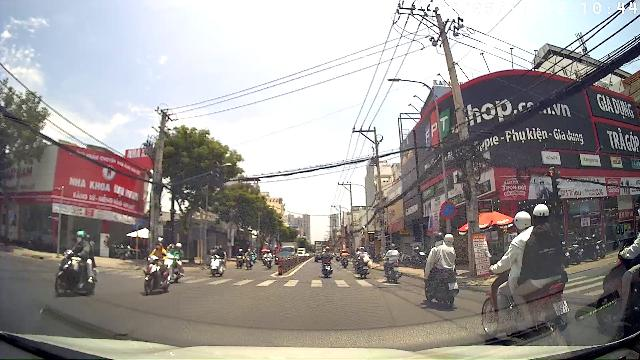131a-cam-do-xe: (439, 201, 456, 219)
